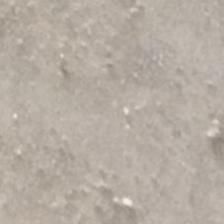Non_Crack: (22, 23, 212, 224)
